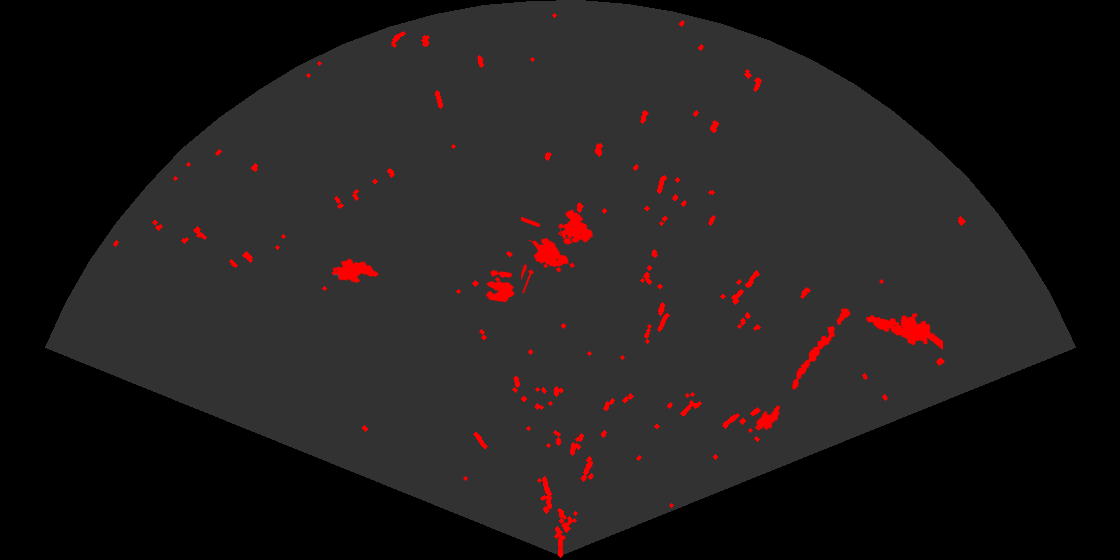AUV: (330, 257, 380, 284), (753, 404, 782, 433)
ball: (484, 269, 516, 304)
cage: (521, 208, 595, 293)
chain: (790, 307, 852, 391)
frogman: (864, 311, 943, 351)
